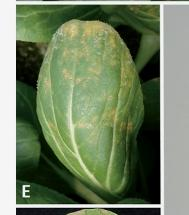Bok-Choy-Diseased: (38, 18, 141, 194)
